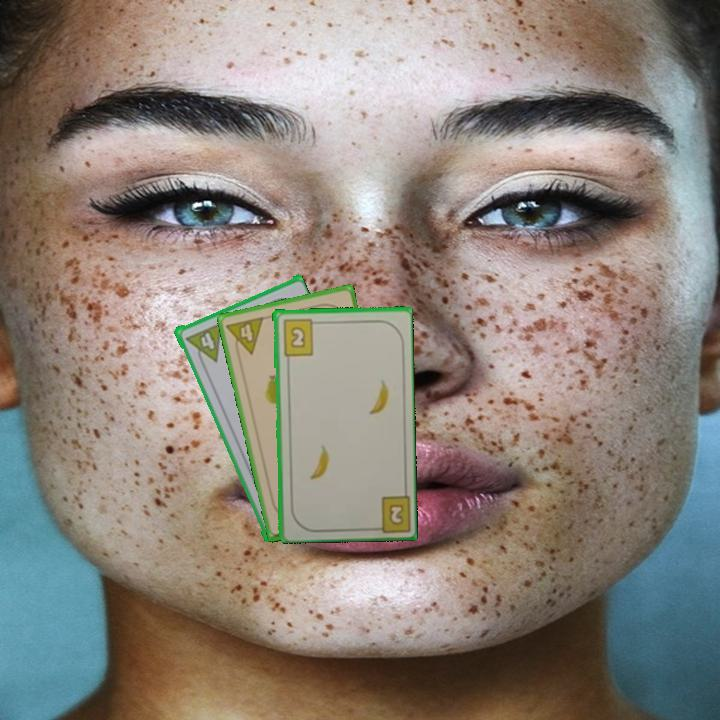2b: (367, 490, 411, 533), (279, 315, 321, 358)
4p: (181, 320, 224, 369), (223, 313, 267, 360)
